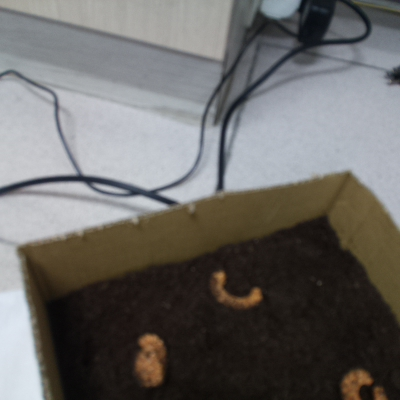eggs: (202, 264, 268, 317), (125, 328, 173, 392), (336, 364, 390, 400)
